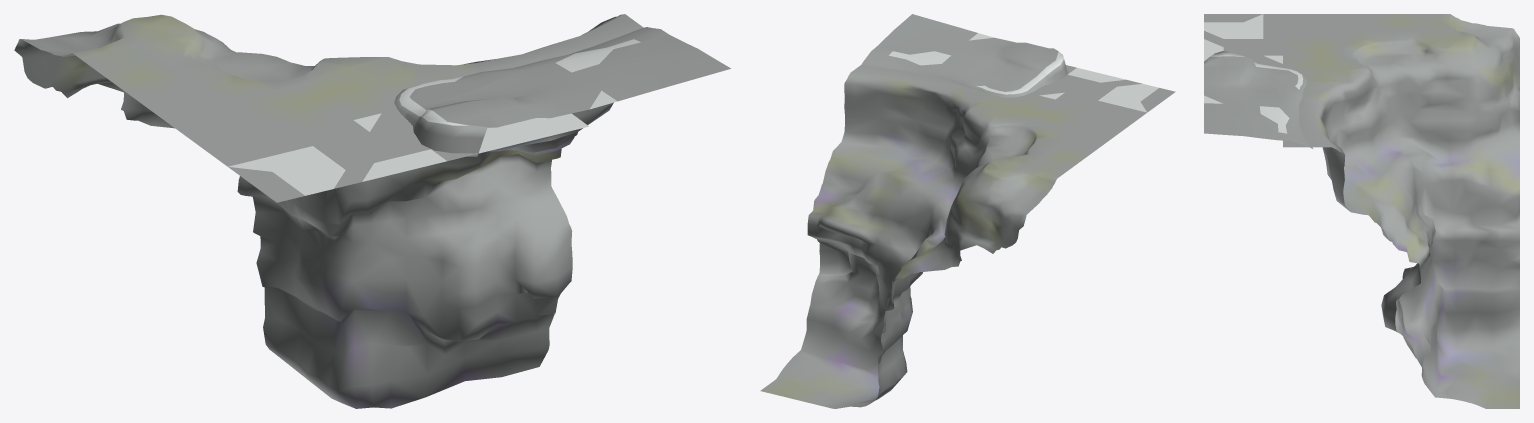
The picture shows the model from 3 angles, left to right: view 1: azimuth 30°, elevation 25°; view 2: azimuth 150°, elevation 25°; view 3: azimuth 270°, elevation 25°; orthographic projection. The views are drawn at different scales.
Parts seen in each view (by area): view 1: G:\FFXIV-MapTools\exports\y6f2\bg\ex5\02_ykt_y6\fld\y6f2\bgp (×11); view 2: G:\FFXIV-MapTools\exports\y6f2\bg\ex5\02_ykt_y6\fld\y6f2\bgp (×12); view 3: G:\FFXIV-MapTools\exports\y6f2\bg\ex5\02_ykt_y6\fld\y6f2\bgp (×10).
Part boxes in pixels (x1,y1,x2,y2): G:\FFXIV-MapTools\exports\y6f2\bg\ex5\02_ykt_y6\fld\y6f2\bgp (×11): (14,14,730,408); G:\FFXIV-MapTools\exports\y6f2\bg\ex5\02_ykt_y6\fld\y6f2\bgp (×12): (760,14,1175,408); G:\FFXIV-MapTools\exports\y6f2\bg\ex5\02_ykt_y6\fld\y6f2\bgp (×10): (1204,14,1519,408).
Bounding box in the file's own units: 128 × 124 × 128.
